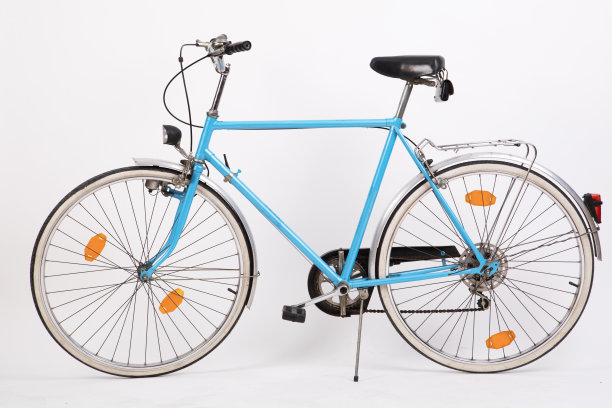MNV: (28, 35, 603, 385)
